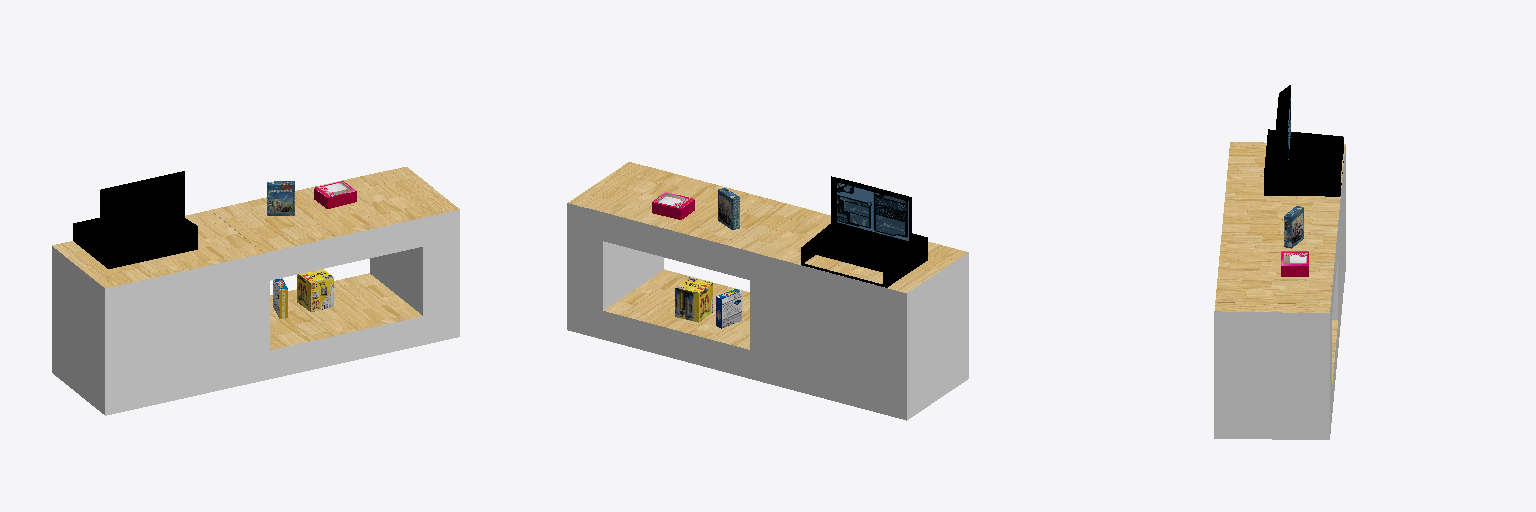
3 views of the same model, side by side, from view 1: azimuth 30°, elevation 25°; view 2: azimuth 150°, elevation 25°; view 3: azimuth 270°, elevation 25° (orthographic).
Visible parts, largest first — view 1: pCube59 polySurface225, polySurface223 pCube59, pCube59 polySurface224, pCube59 polySurface222, pCube59 polySurface220, pCube59 polySurface221, pCube59 polySurface216, pCube59 polySurface217, pCube59 polySurface218, pCube59 polySurface219; view 2: pCube59 polySurface225, polySurface223 pCube59, pCube59 polySurface224, pCube59 polySurface222, pCube59 polySurface221, pCube59 polySurface220, pCube59 polySurface216, pCube59 polySurface218, pCube59 polySurface219, pCube59 polySurface217; view 3: pCube59 polySurface222, polySurface223 pCube59, pCube59 polySurface225, pCube59 polySurface221, pCube59 polySurface220, pCube59 polySurface218, pCube59 polySurface217.
Part boxes in pixels (x1,y1,x2,y2): pCube59 polySurface225: (52,210,269,415); polySurface223 pCube59: (211,170,441,280); pCube59 polySurface224: (246,273,459,384); pCube59 polySurface222: (370,167,459,344); pCube59 polySurface220: (100,171,184,237); pCube59 polySurface221: (73,218,197,268); pCube59 polySurface216: (297,269,333,311); pCube59 polySurface217: (267,181,294,215); pCube59 polySurface218: (314,181,356,208); pCube59 polySurface219: (273,278,287,318); pCube59 polySurface225: (750,212,968,420); polySurface223 pCube59: (585,166,816,281); pCube59 polySurface224: (568,269,771,384); pCube59 polySurface222: (567,162,663,329); pCube59 polySurface221: (801,224,927,287); pCube59 polySurface220: (831,176,911,245); pCube59 polySurface216: (675,277,712,322); pCube59 polySurface218: (652,192,694,219); pCube59 polySurface219: (716,289,741,328); pCube59 polySurface217: (718,188,739,229); pCube59 polySurface222: (1214,302,1331,439); polySurface223 pCube59: (1215,217,1338,324); pCube59 polySurface225: (1223,142,1345,336); pCube59 polySurface221: (1264,129,1343,196); pCube59 polySurface220: (1276,85,1290,171); pCube59 polySurface218: (1281,251,1308,276); pCube59 polySurface217: (1284,206,1303,248).
Size of the model in its own units: 4.75 by 2.55 by 1.54.
Materials: 6 (6 with a texture image).